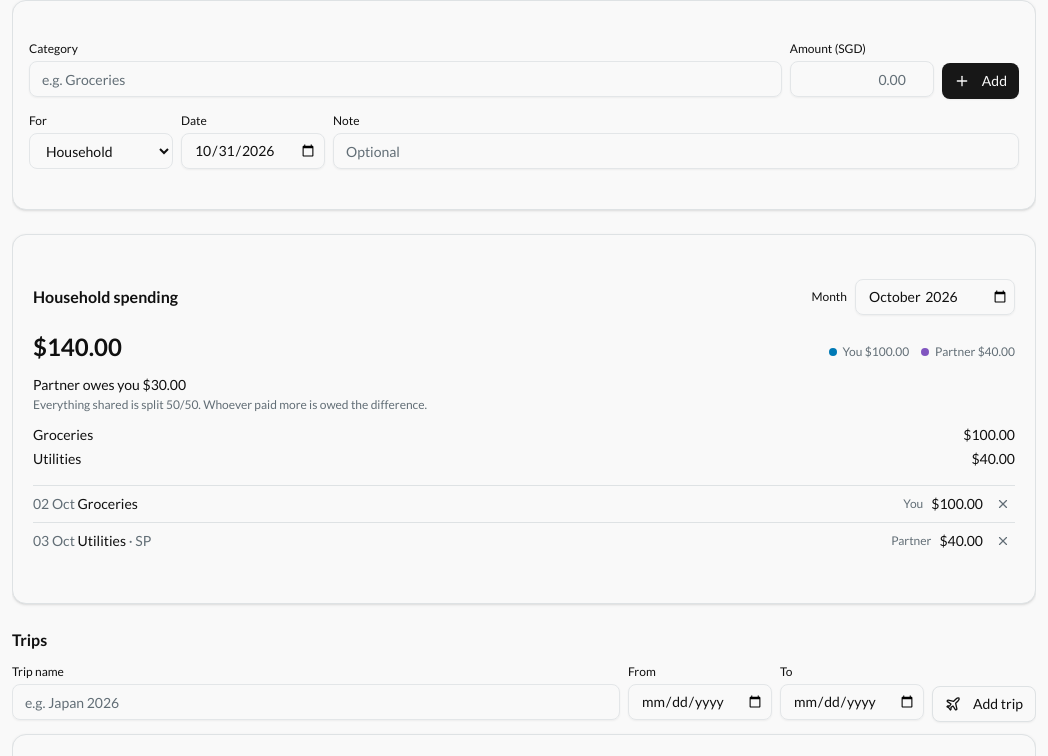
Test: quick-adds spending, then keeps space and category for the next entry
Step 1. Select "Japan" in the dropdown labelled "For" → (101, 151), box [29,133,173,169]
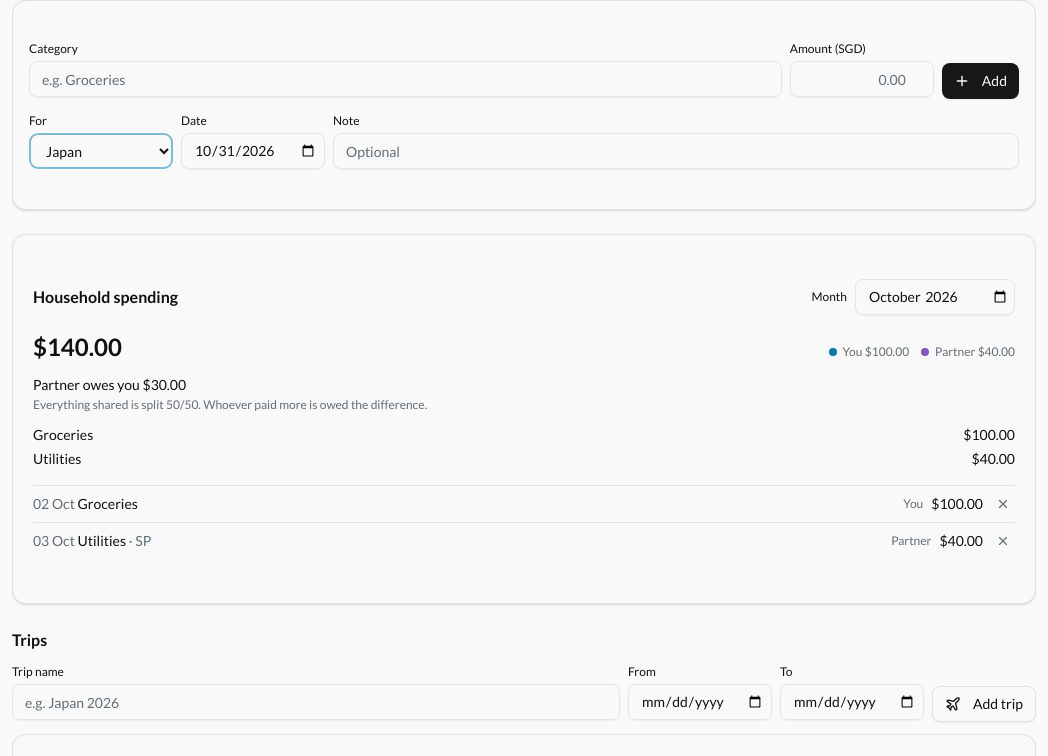
Step 2. Type "Hotel" into the field labelled "Category" → (405, 79), box [29,61,782,97]
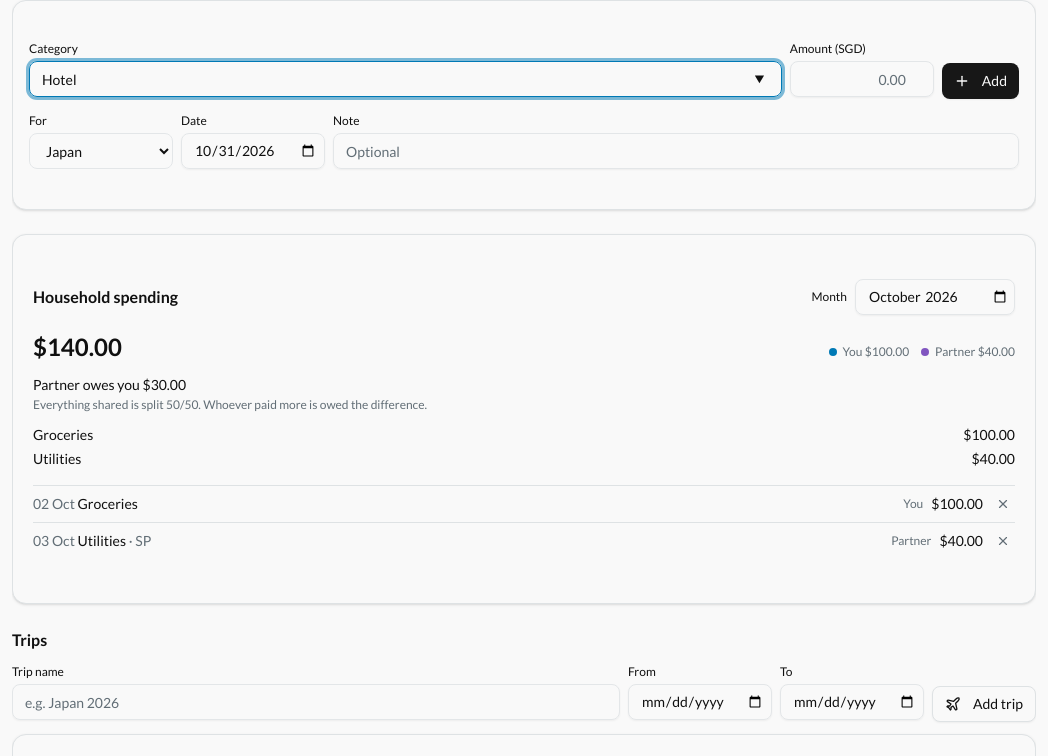
Step 3. Type "640.5" into the number field labelled "Amount (SGD)" → (862, 79), box [790,61,934,97]
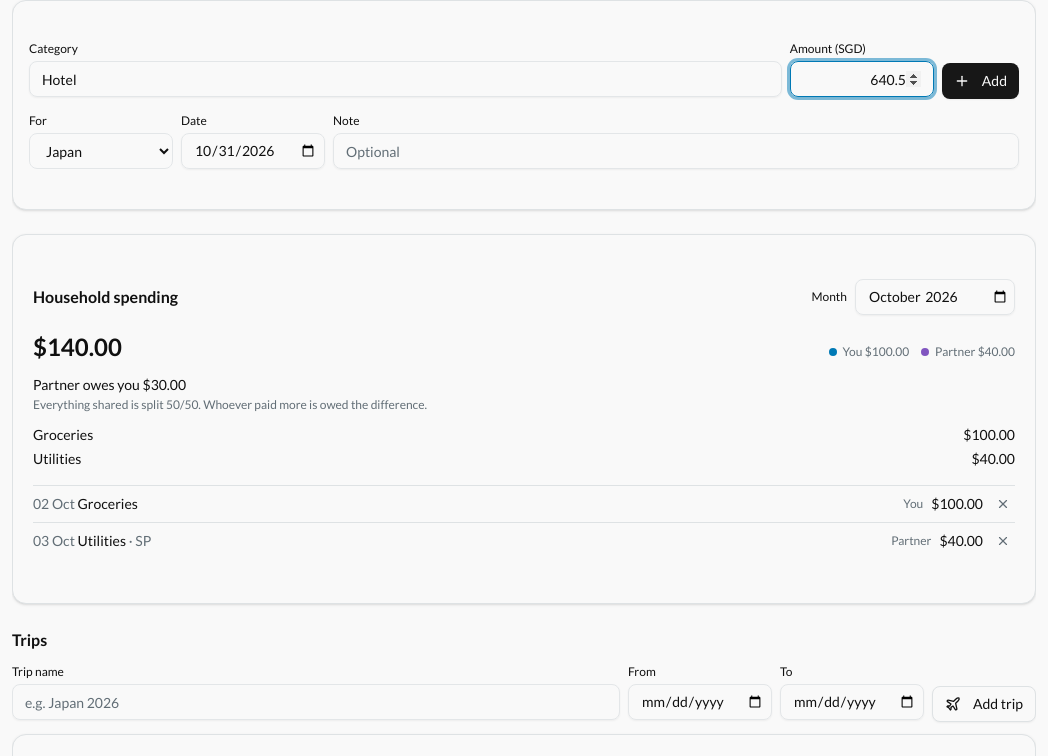
Step 4. Click the button "Add" → (980, 81), box [942,63,1019,99]
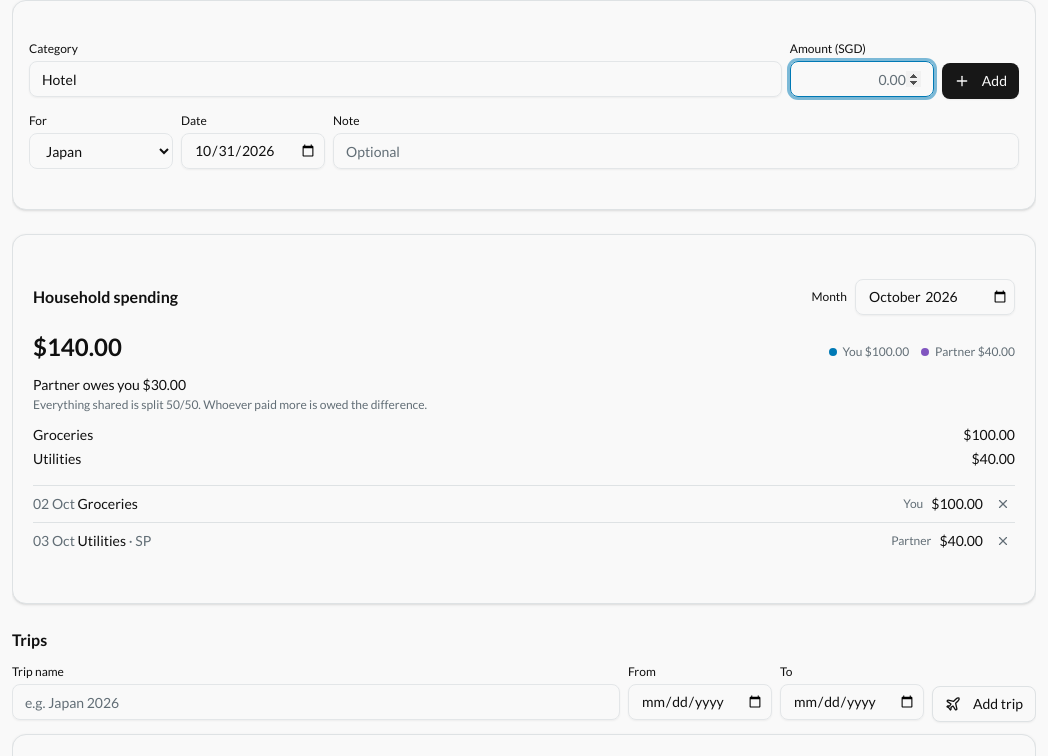
Result: the number field labelled "Amount (SGD)" is not empty at [790,61,934,97]
